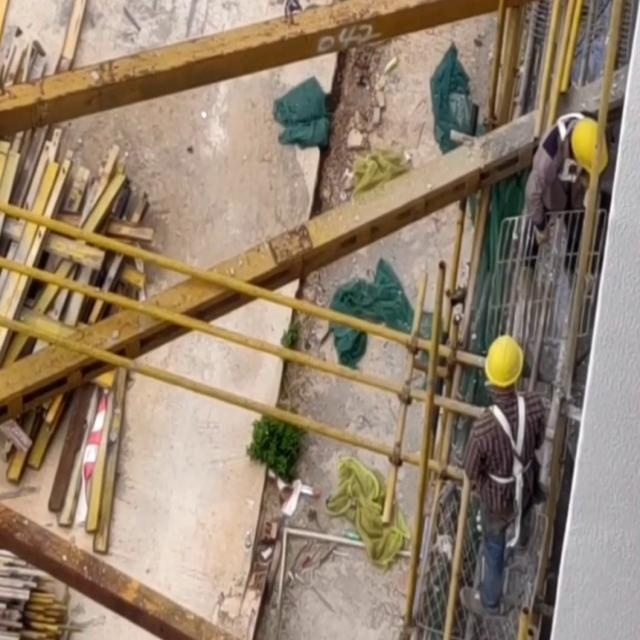Arnes_seguridad: (481, 390, 538, 484), (551, 110, 588, 186)
